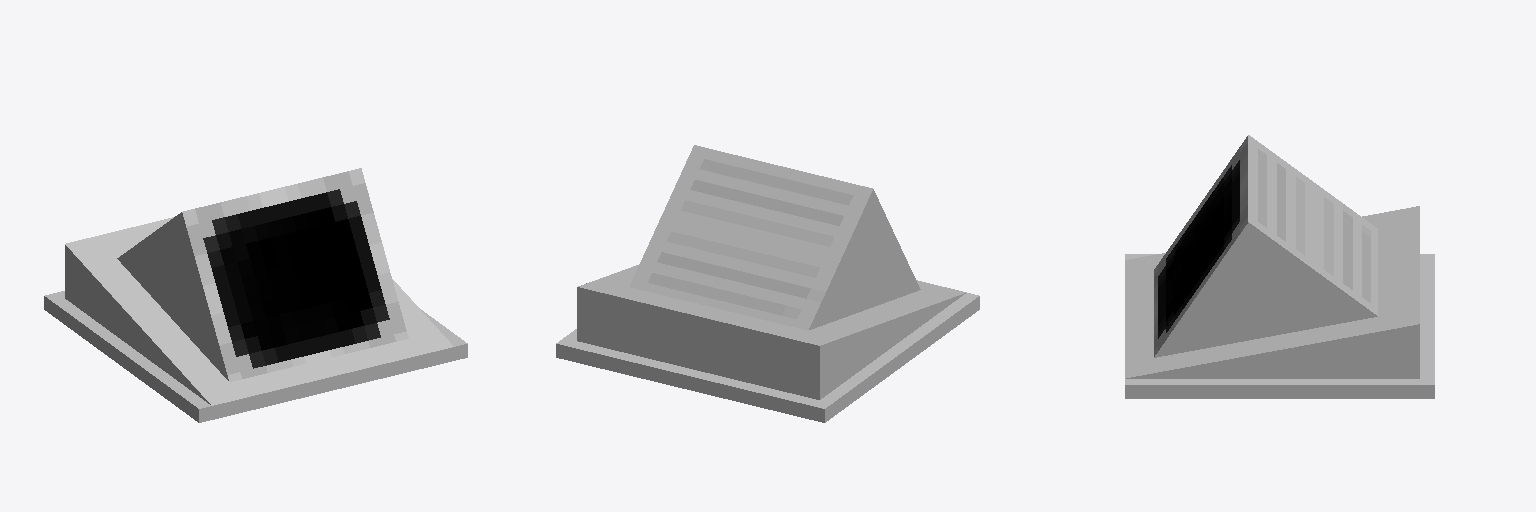
3 views of the same model, side by side, from view 1: azimuth 30°, elevation 25°; view 2: azimuth 150°, elevation 25°; view 3: azimuth 270°, elevation 25° (orthographic).
Parts seen in each view (by area): view 1: Cube; view 2: Cube; view 3: Cube.
Boxes of the visible parts, x1=… form: Cube: x1=44, y1=168, x2=467, y2=422; Cube: x1=556, y1=145, x2=979, y2=422; Cube: x1=1125, y1=135, x2=1434, y2=398.
Size of the model in its own units: 2 by 1.11 by 2.
1 materials, 1 textured.